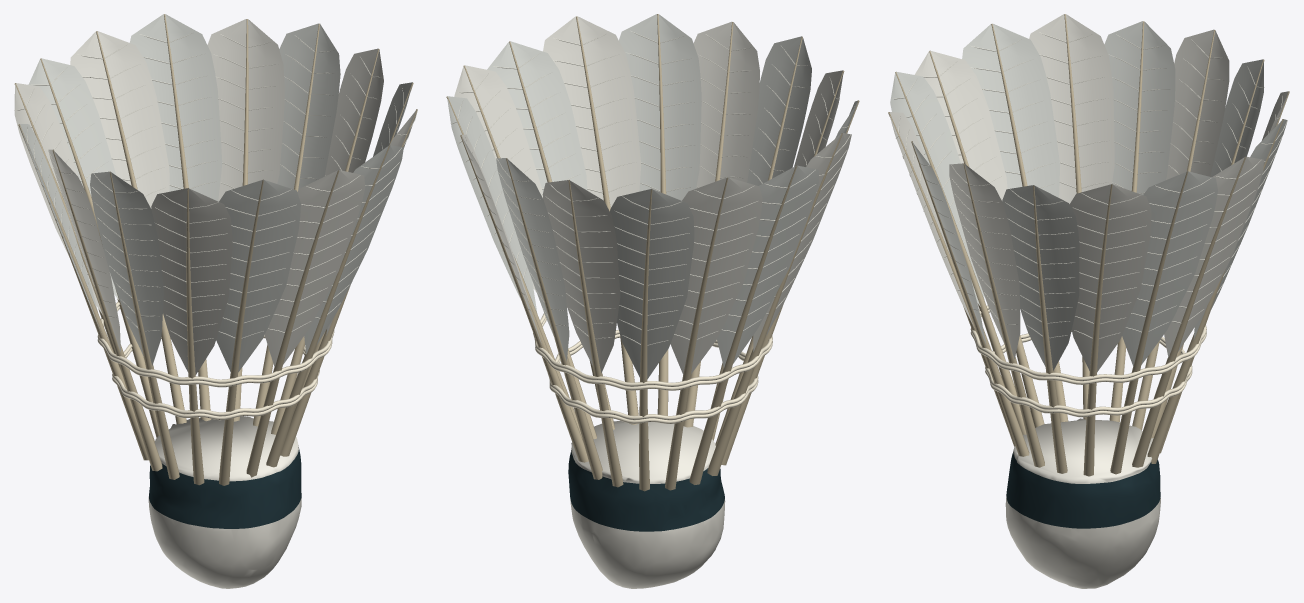
Rendered from shuttle.glb.
The picture shows the model from 3 angles, left to right: view 1: azimuth 30°, elevation 25°; view 2: azimuth 150°, elevation 25°; view 3: azimuth 270°, elevation 25°; orthographic projection. The views are drawn at different scales.
Visible parts, largest first — view 1: FeatherShuttle; view 2: FeatherShuttle; view 3: FeatherShuttle.
Boxes of the visible parts, left/top/right/bottom form: FeatherShuttle: left=14, top=14, right=417, bottom=588; FeatherShuttle: left=446, top=14, right=859, bottom=588; FeatherShuttle: left=888, top=14, right=1289, bottom=588.
Size of the model in its own units: 0.0642 by 0.0845 by 0.0642.
